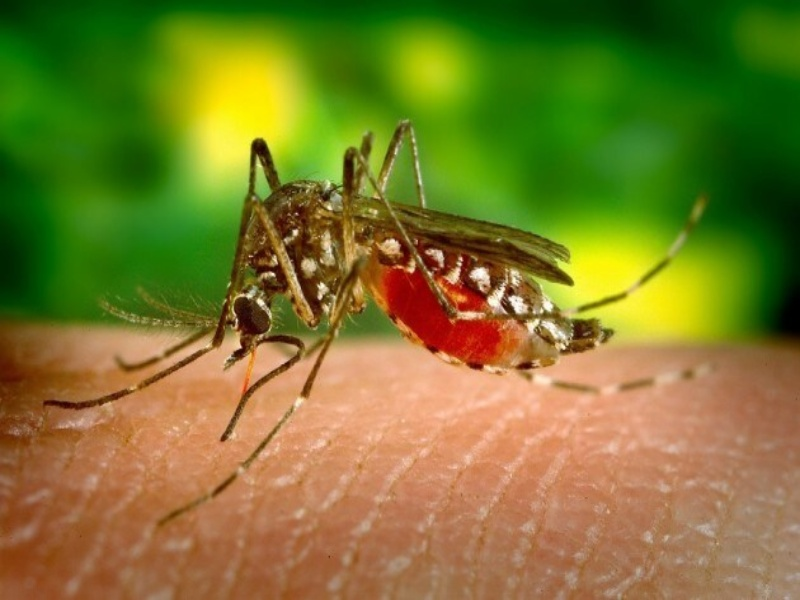dengue_mosquito: (99, 121, 602, 403)
